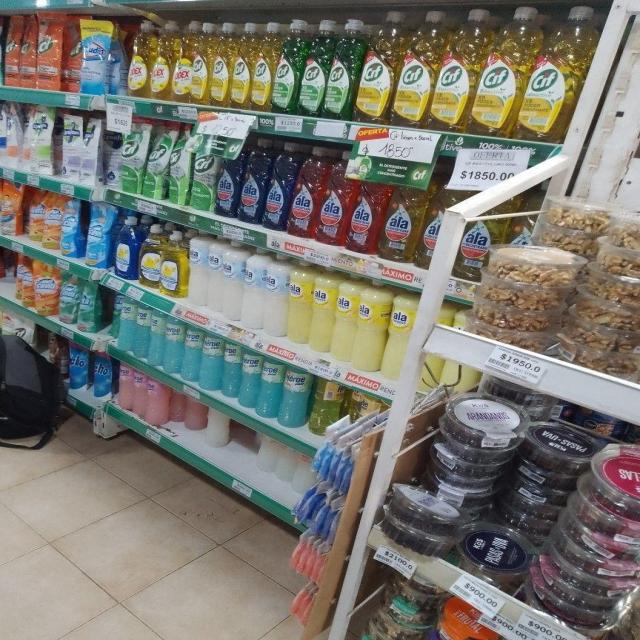ala_conc_amarillo: (383, 174, 424, 264)
ala_conc_azul: (240, 138, 265, 224), (266, 141, 290, 230), (216, 136, 240, 218)
ala_conc_rojo: (348, 166, 382, 254), (317, 150, 347, 246), (290, 144, 317, 238)
ala_crem_amarillo: (385, 288, 417, 378), (355, 279, 385, 373), (334, 276, 356, 364), (312, 269, 334, 354), (288, 262, 310, 346)
ala_crem_blanco: (264, 255, 288, 339), (242, 251, 263, 331), (188, 234, 207, 309), (223, 242, 241, 321), (207, 238, 223, 315)
cif_conc_bot_amarilla: (521, 4, 581, 143), (473, 5, 520, 136), (433, 10, 471, 132), (394, 9, 432, 128), (358, 12, 394, 124), (252, 20, 273, 112), (231, 21, 252, 110), (210, 21, 230, 107), (191, 20, 210, 104)
cif_conc_botella_verde: (326, 16, 358, 120), (299, 18, 326, 117), (273, 18, 300, 115), (191, 131, 216, 212)
heroe: (281, 364, 310, 428), (164, 312, 183, 376), (183, 320, 200, 384), (118, 294, 136, 354), (133, 369, 146, 418)
magistral_con_amarillo: (162, 230, 187, 298), (140, 224, 161, 288)
magistral_con_azul: (114, 215, 138, 280)
odex: (127, 19, 149, 98), (150, 20, 171, 100), (172, 20, 191, 102)
